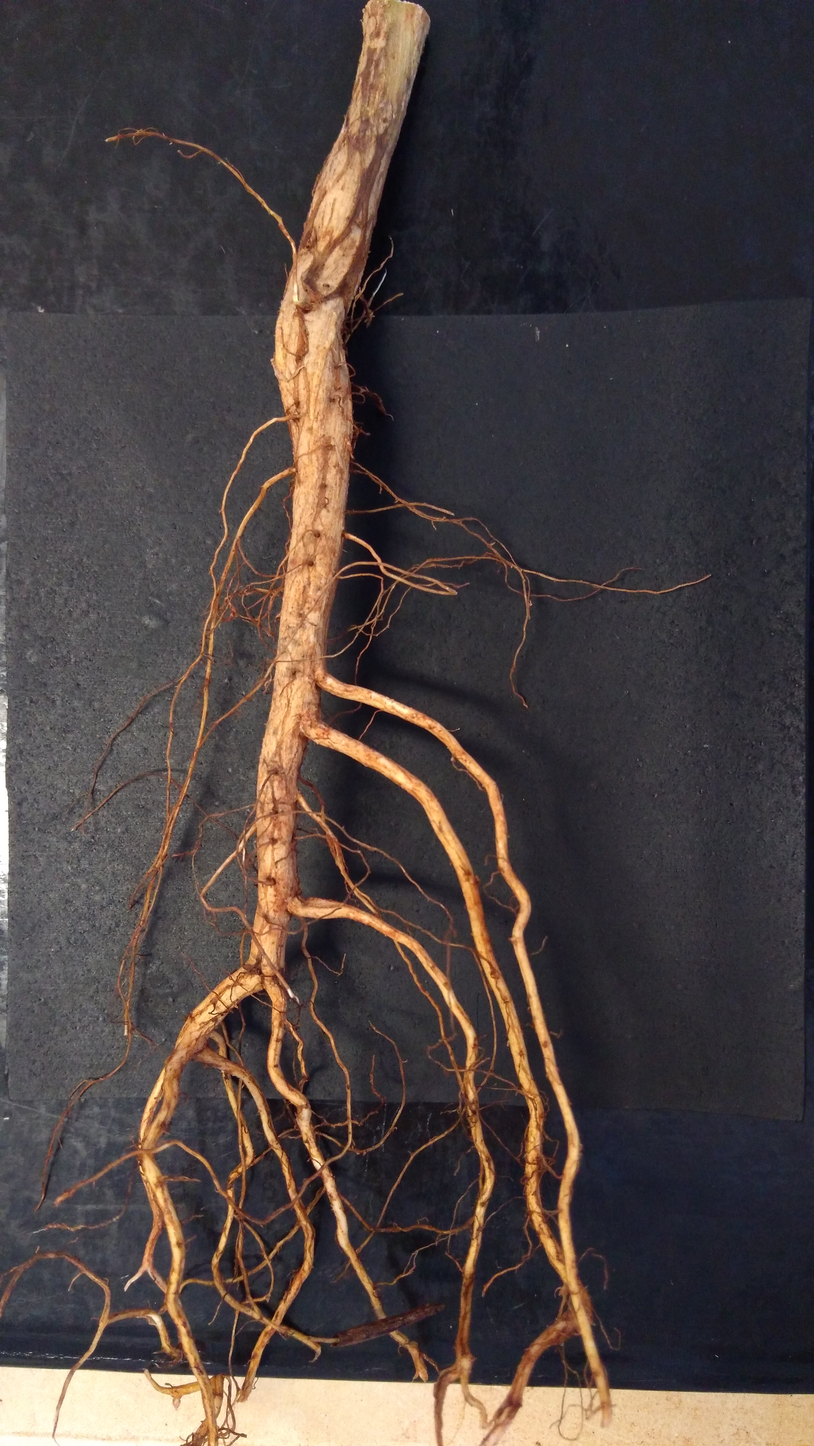nodule: (172, 1397, 181, 1409), (450, 757, 456, 763)
